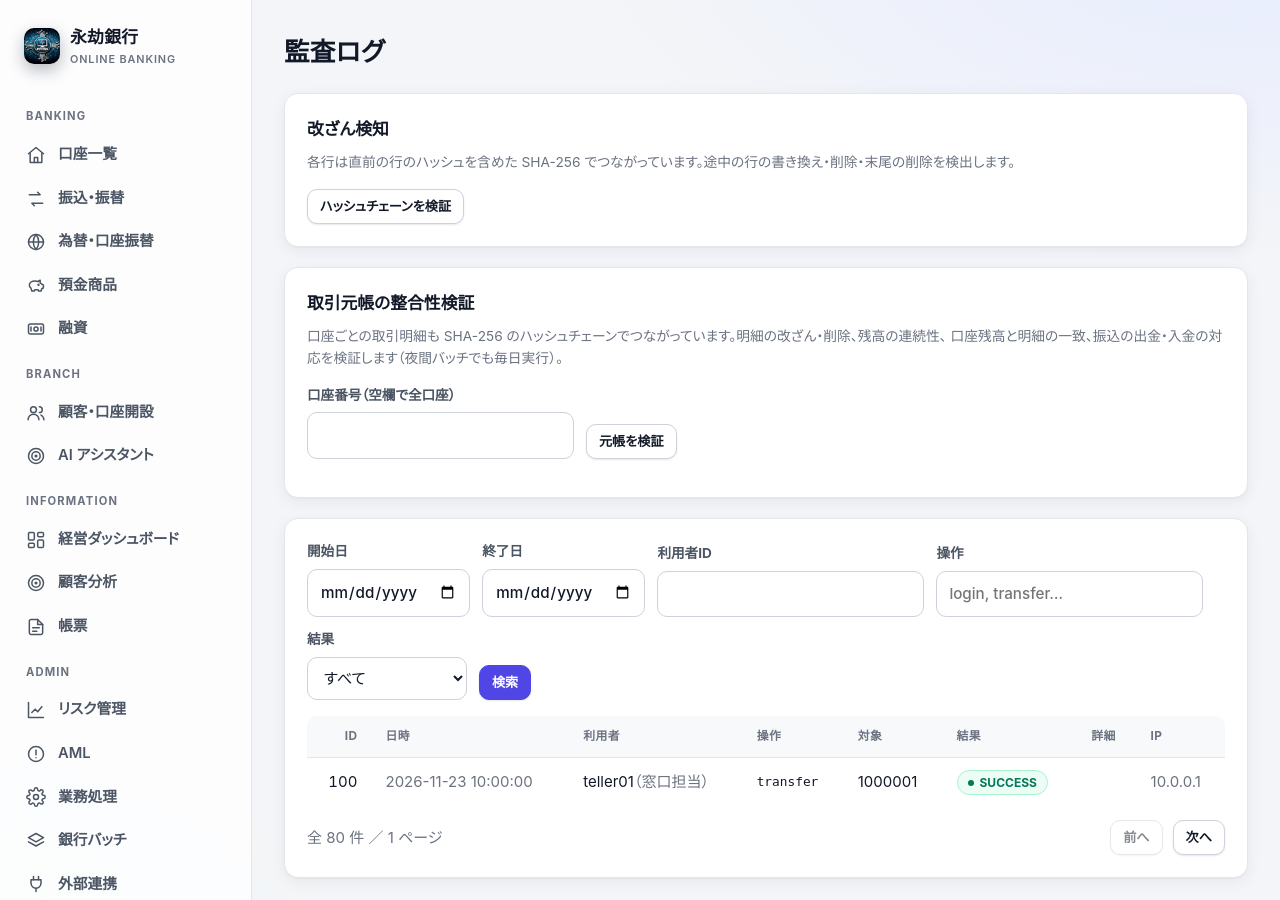
Test: AuditPage › 次ページを先読みし、ページ送りできる
Check: the text "全 80 件 ／ 1 ページ" is shown, box [307,826,442,850]
Click the button "次へ": (1199, 838) [1173,820,1225,855]
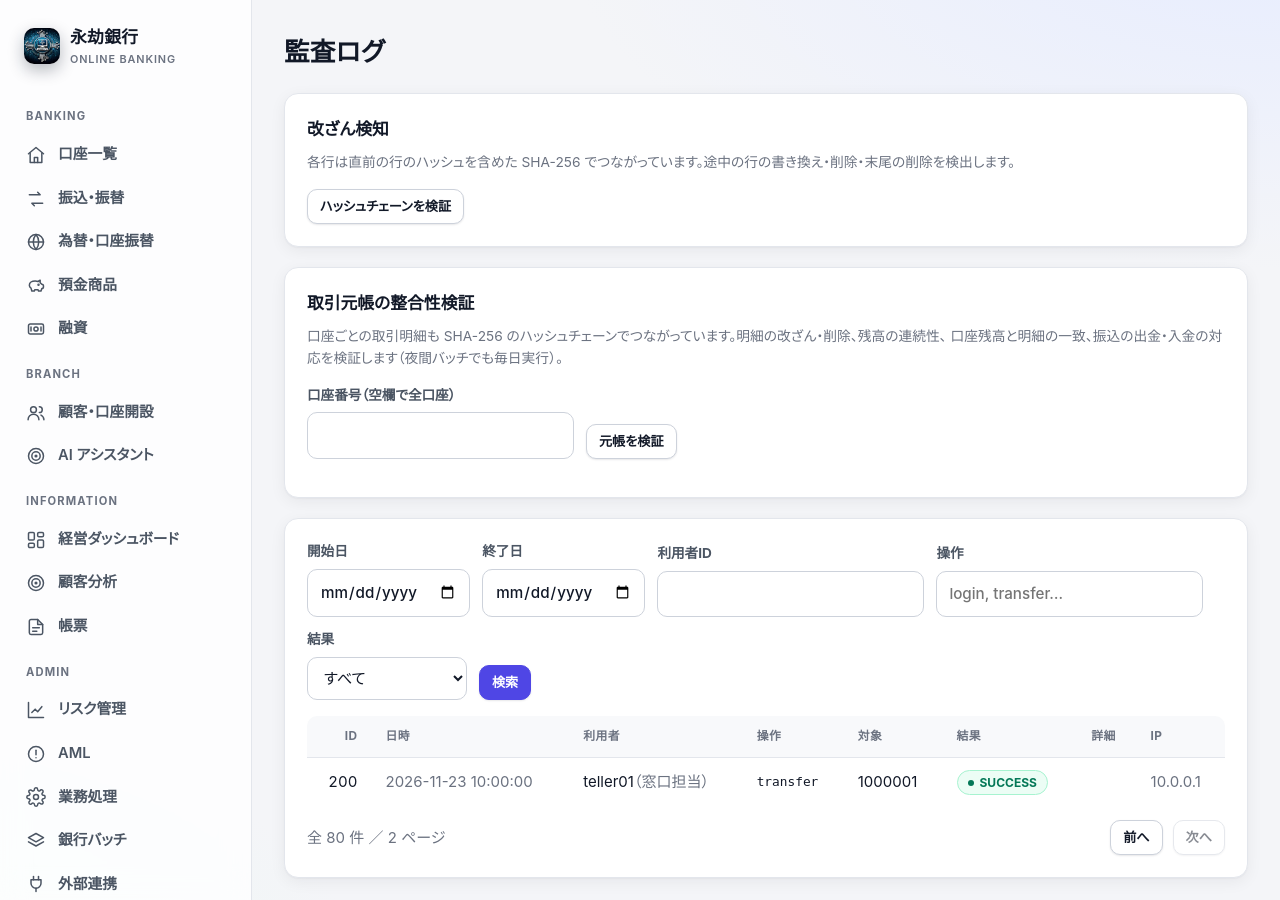
Check: the text "200" is shown, box [307,758,372,806]
Check: the button "次へ" is disabled, box [1173,820,1225,855]
